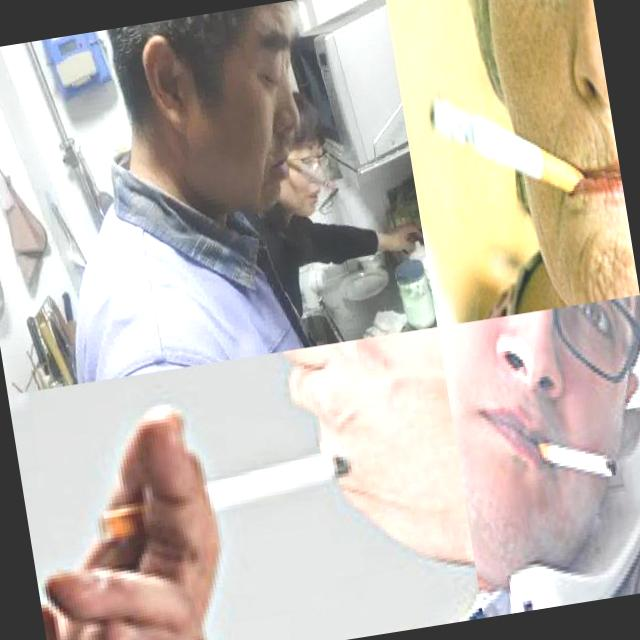smoke: (96, 449, 356, 544), (424, 73, 590, 216), (528, 427, 620, 490), (284, 149, 336, 200)
